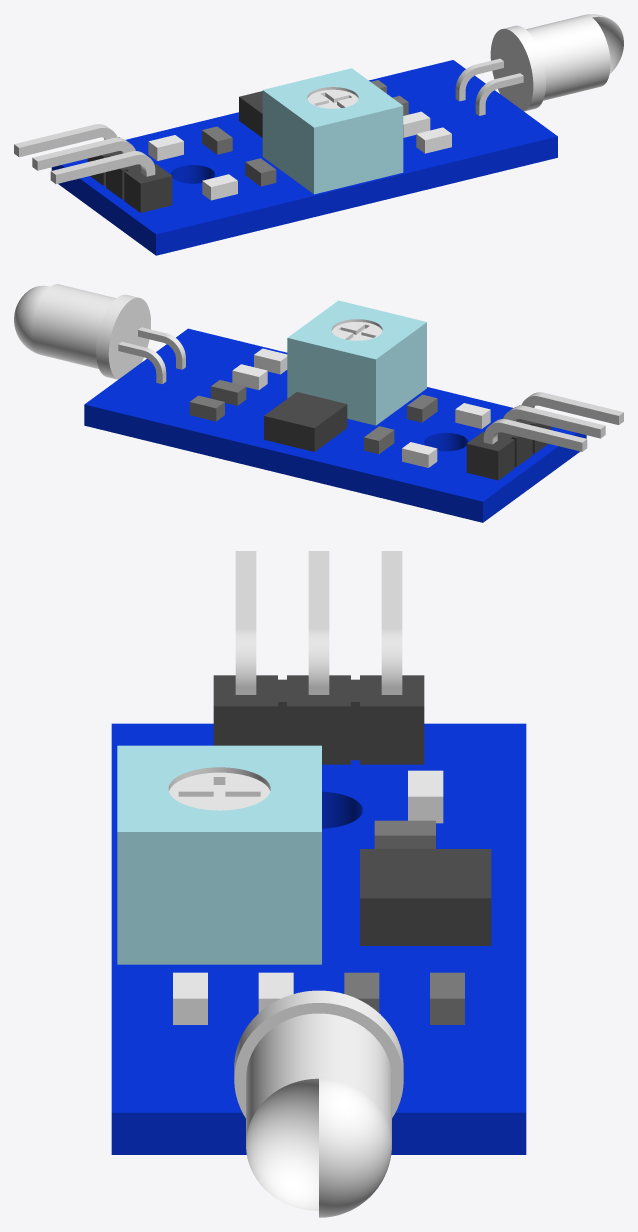
File: Light Sensor.glb
3 renders of one model, top to bottom at view 1: azimuth 30°, elevation 25°; view 2: azimuth 150°, elevation 25°; view 3: azimuth 270°, elevation 25°, orthographic. The views are drawn at different scales.
Parts seen in each view (by area): view 1: Asset3DLoader.sceneRoot; view 2: Asset3DLoader.sceneRoot; view 3: Asset3DLoader.sceneRoot.
Boxes of the visible parts, left/top/right/bottom form: Asset3DLoader.sceneRoot: left=14, top=14, right=623, bottom=255; Asset3DLoader.sceneRoot: left=14, top=284, right=623, bottom=522; Asset3DLoader.sceneRoot: left=111, top=551, right=526, bottom=1217.
Bounding box in the file's own units: 0.0462 × 0.0071 × 0.0142.
